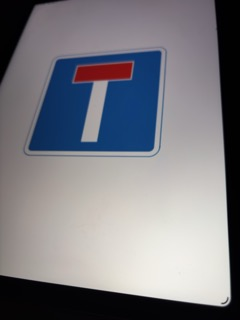DEAD END: (22, 46, 165, 158)
